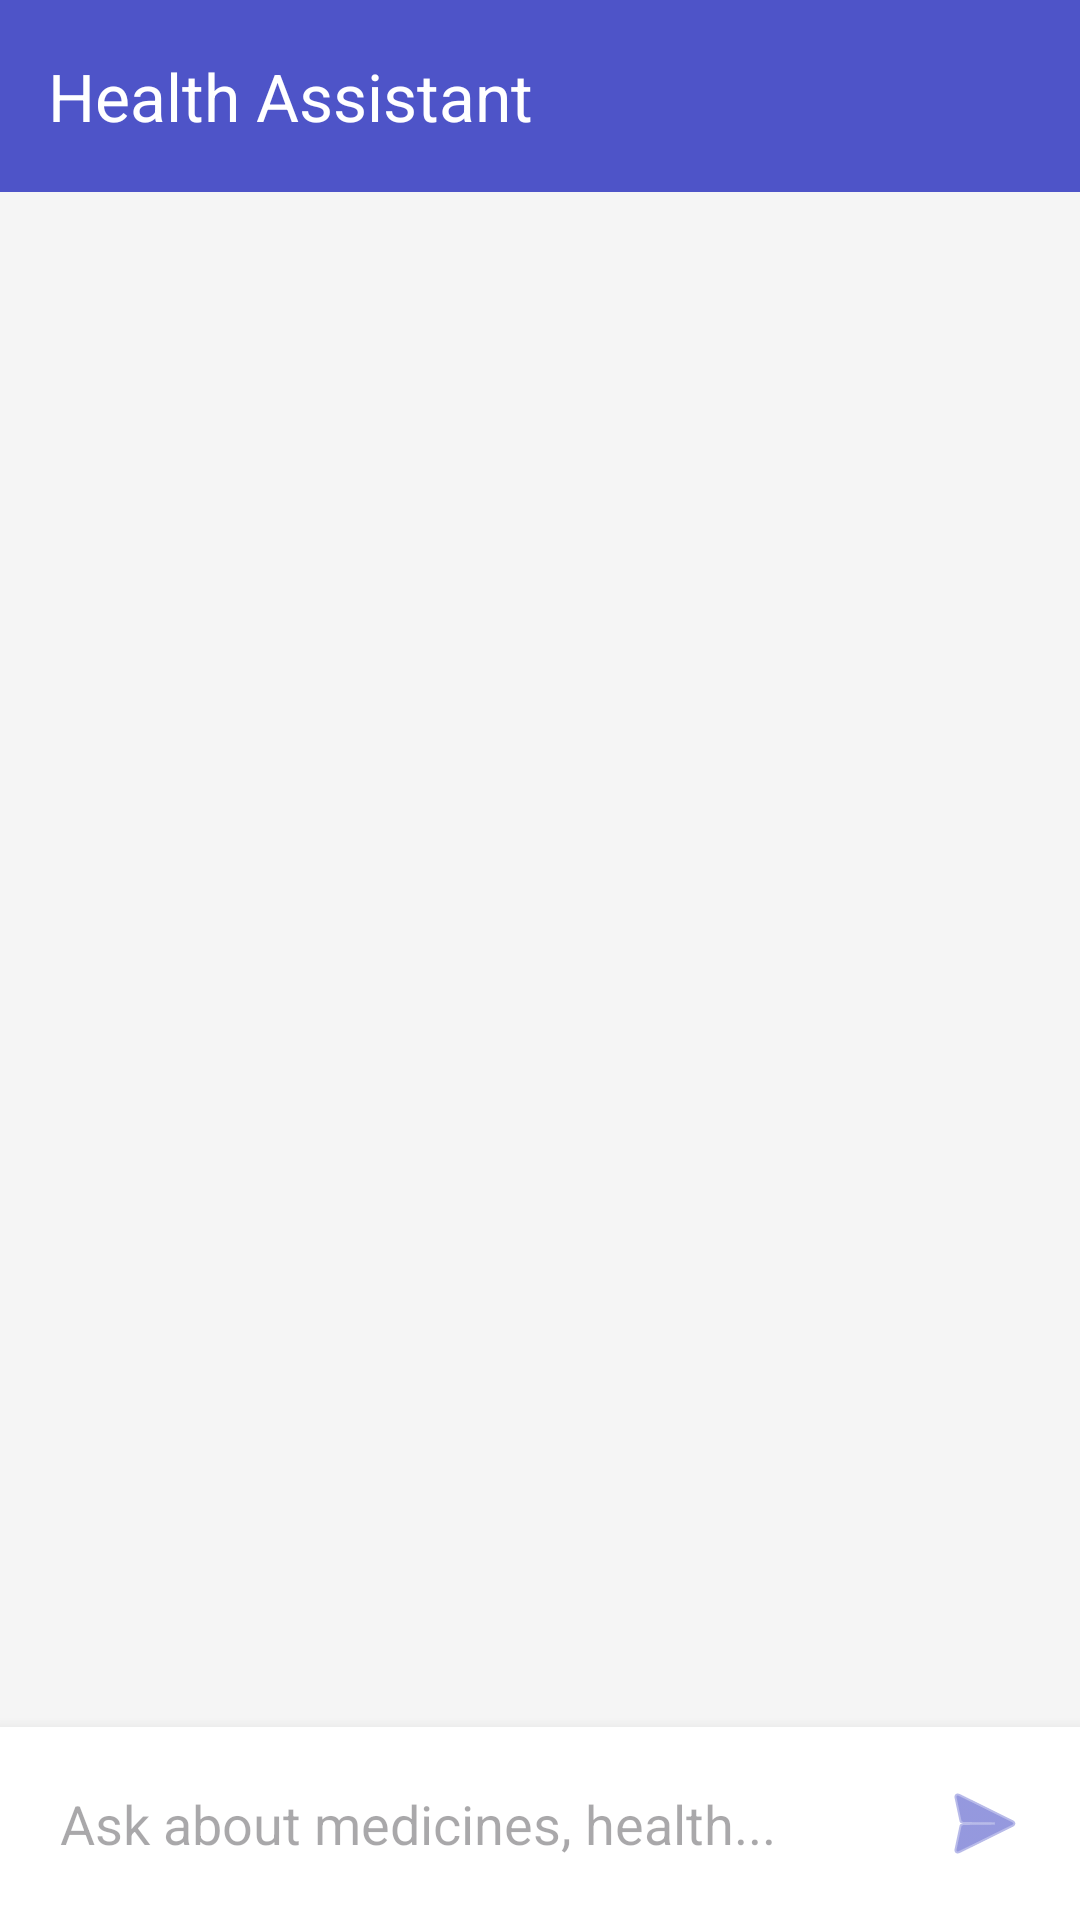

Screen size 1080px x 1920px. Icon name, then its center in pixels as (x,y):
Send: (984,1823)
